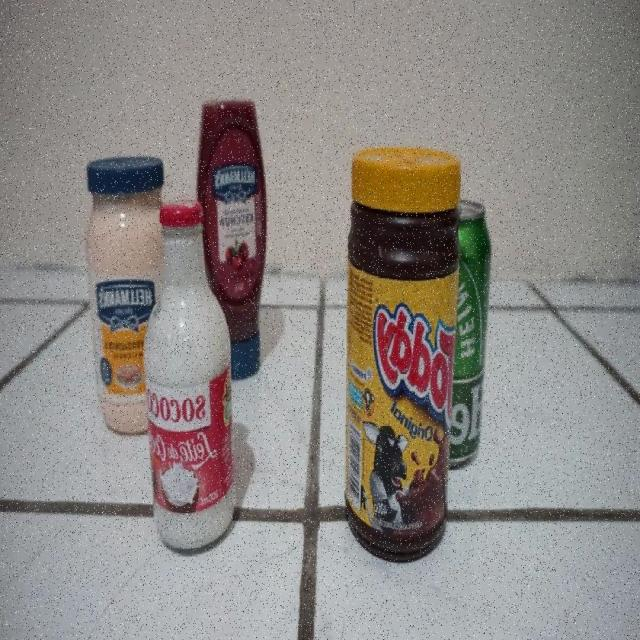BeerCan: (454, 197, 494, 473)
ChocolatePowder: (344, 151, 457, 552)
CoconutMilk: (148, 198, 227, 551)
Ketchup: (233, 95, 269, 377)
Mayonnaise: (84, 152, 144, 439)
